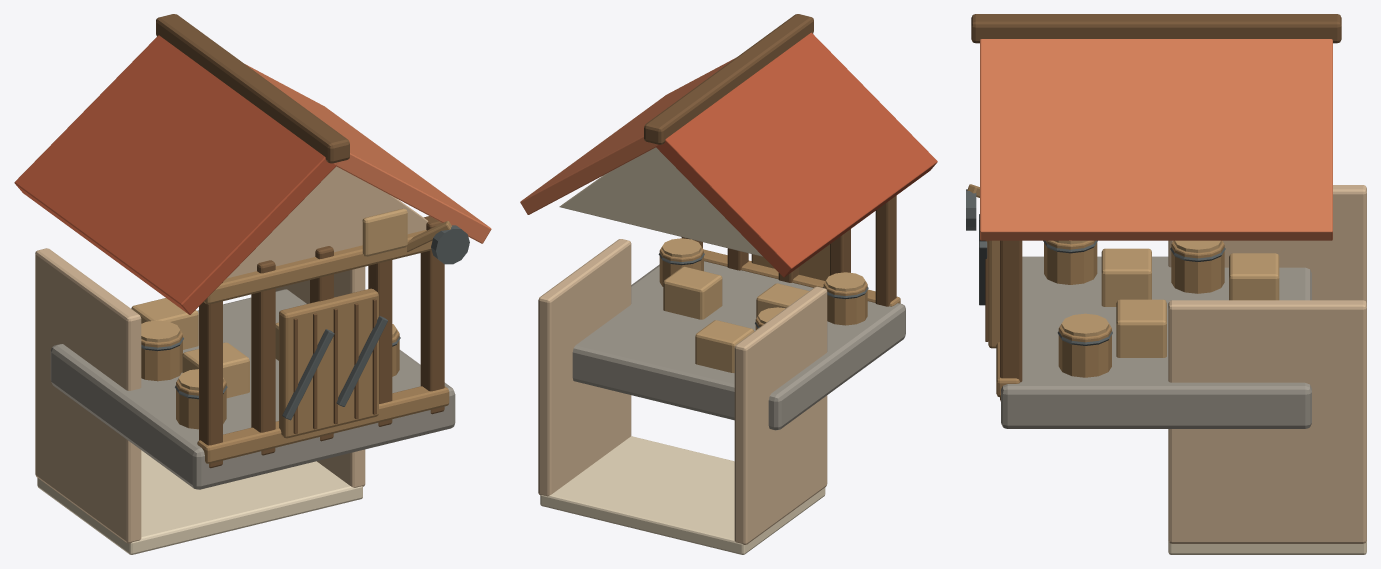
Rendered from warehouse.glb.
3 views of the same model, side by side, from view 1: azimuth 30°, elevation 25°; view 2: azimuth 150°, elevation 25°; view 3: azimuth 270°, elevation 25° (orthographic). The views are drawn at different scales.
Visible parts, largest first — view 1: TimberWarehouse_Geometry; view 2: TimberWarehouse_Geometry; view 3: TimberWarehouse_Geometry.
Boxes of the visible parts, x1,y1,x2,y2 form: TimberWarehouse_Geometry: (14, 14, 491, 554); TimberWarehouse_Geometry: (520, 14, 937, 554); TimberWarehouse_Geometry: (966, 14, 1366, 554).
Size of the model in its own units: 2.55 by 3.56 by 2.71.
